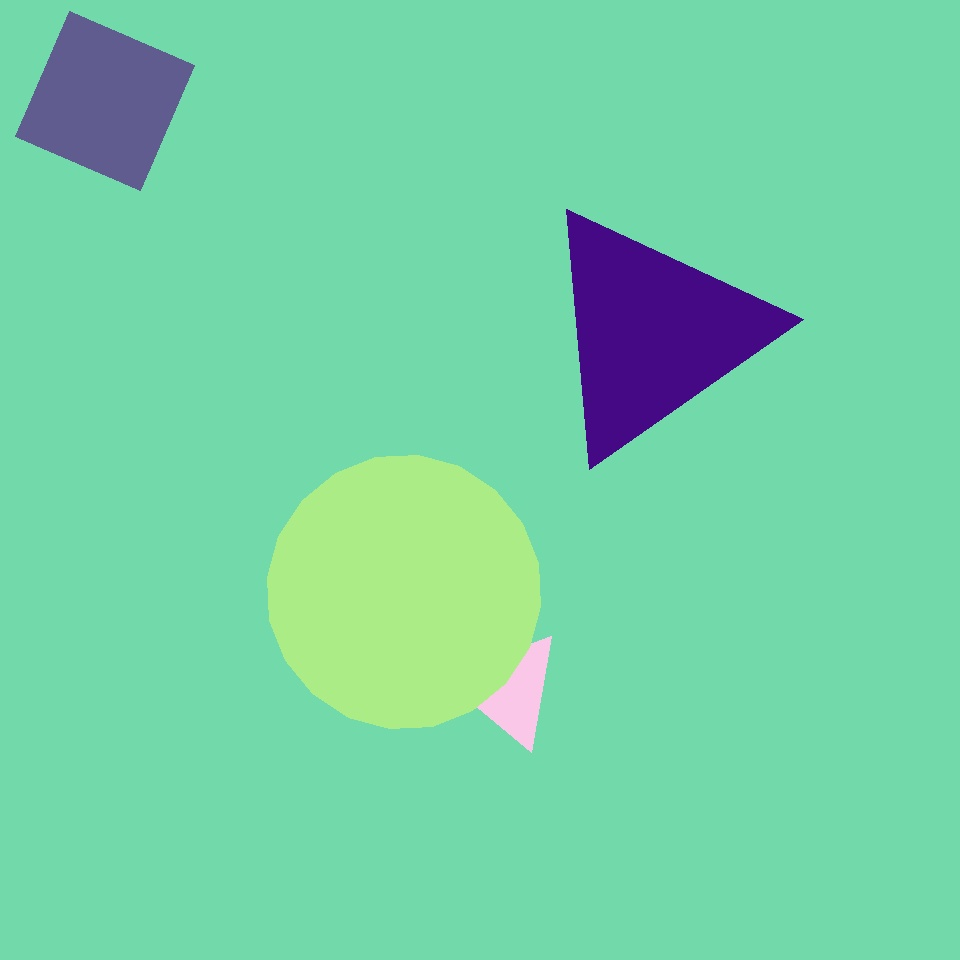circle: (534, 203, 772, 463), (453, 631, 563, 747)
square: (15, 12, 194, 190)
triangle: (268, 456, 540, 728)
